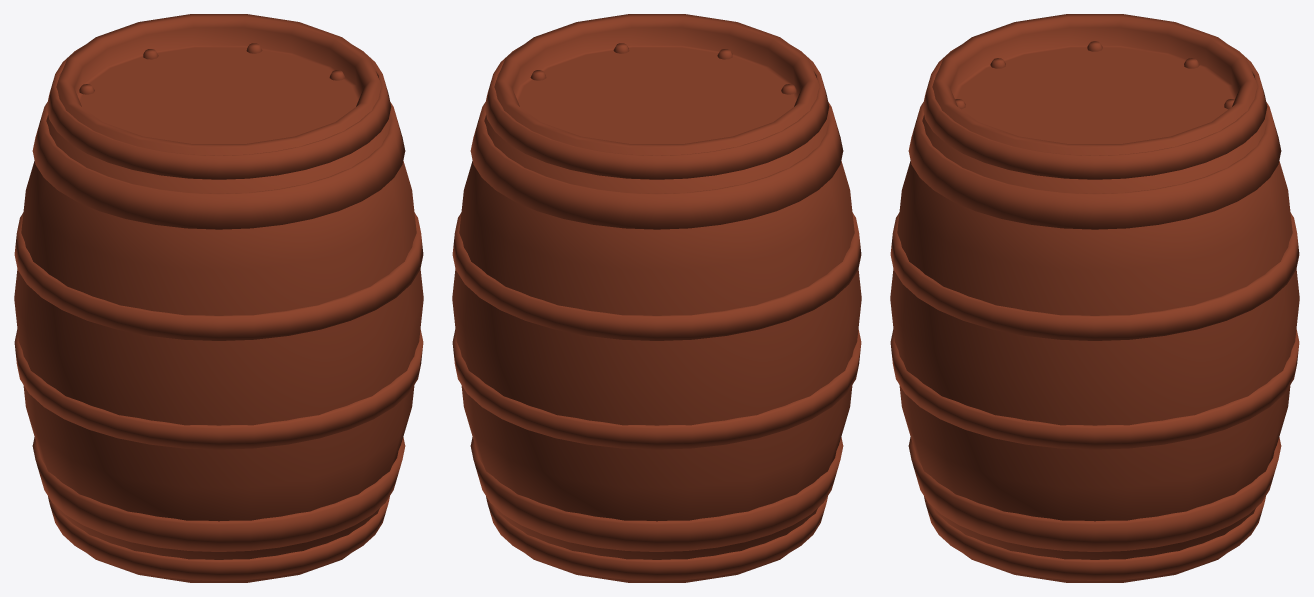
File: barrel_low.fbx
3 views of the same model, side by side, from view 1: azimuth 30°, elevation 25°; view 2: azimuth 150°, elevation 25°; view 3: azimuth 270°, elevation 25° (orthographic).
Visible parts, largest first — view 1: body_low, reinforcements_low, bolts_low; view 2: body_low, reinforcements_low, bolts_low; view 3: body_low, reinforcements_low, bolts_low.
Part boxes in pixels (bbox=[...]): body_low: bbox=[14, 14, 423, 582]; reinforcements_low: bbox=[14, 45, 423, 580]; bolts_low: bbox=[79, 43, 345, 94]; body_low: bbox=[452, 14, 861, 582]; reinforcements_low: bbox=[452, 45, 861, 580]; bolts_low: bbox=[530, 43, 796, 94]; body_low: bbox=[890, 14, 1299, 582]; reinforcements_low: bbox=[890, 45, 1299, 580]; bolts_low: bbox=[955, 41, 1234, 109].
Bounding box in the file's own units: 200 × 234 × 200.
